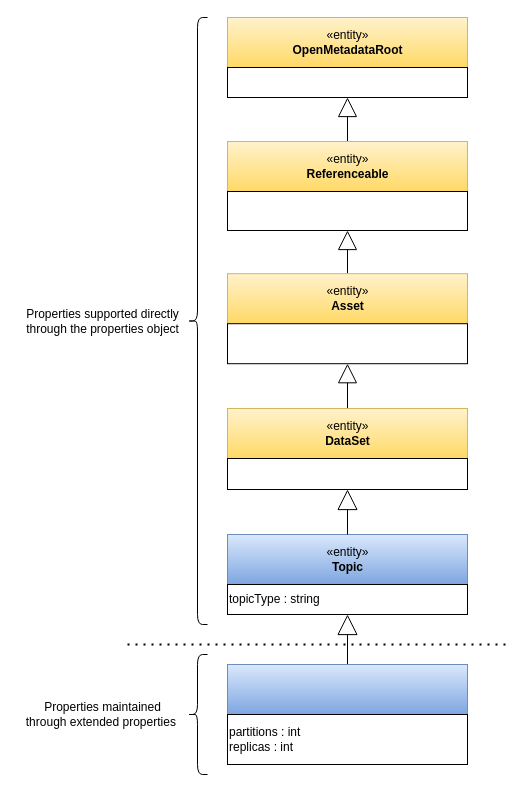
Some shapes in this 526 by 792 pixel diagram are drawn without their labels. The shapes that lost their labels are listed below. From the top down, each one's centre as x and y in pixels, then its label:
At point (347, 210): "qualifiedName : string additionalProperties : map<string, string>".
At point (347, 343): "name : string description : string".
At point (347, 689): "«entity» KafkaTopic".
